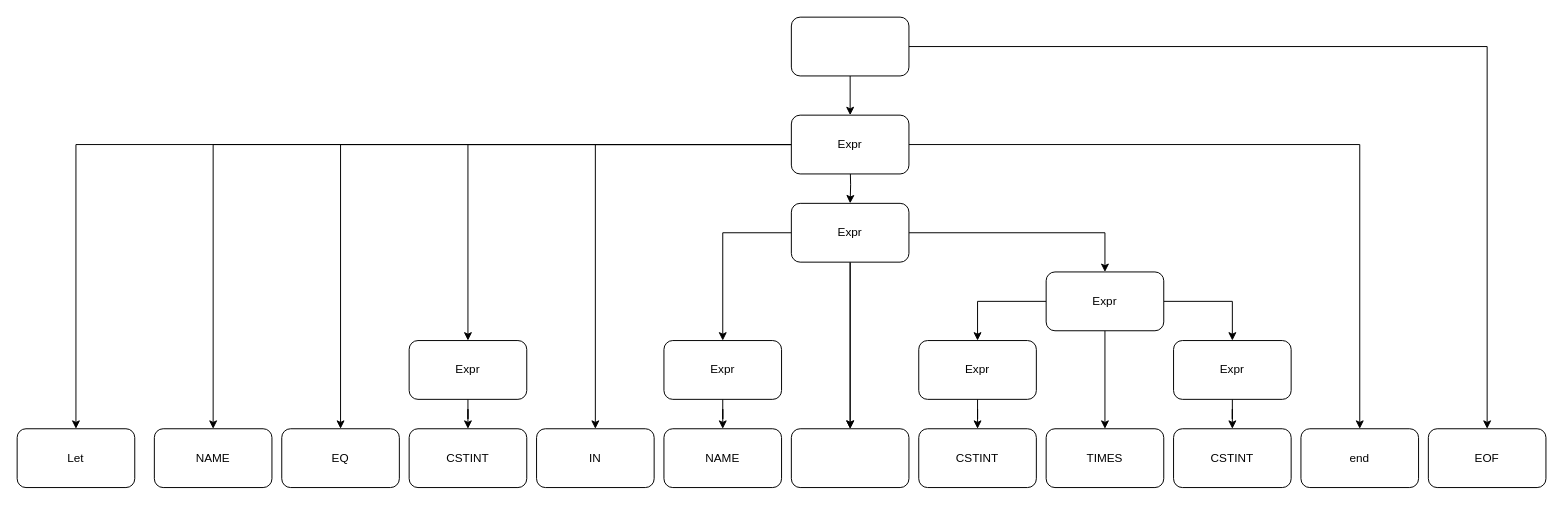
The diagram is 1563 pixels wide and 505 high, and some of its shapes have lost their labels. Each missing label, with the centre of its shape:
Main: (849,46)
PLUS: (849,458)
